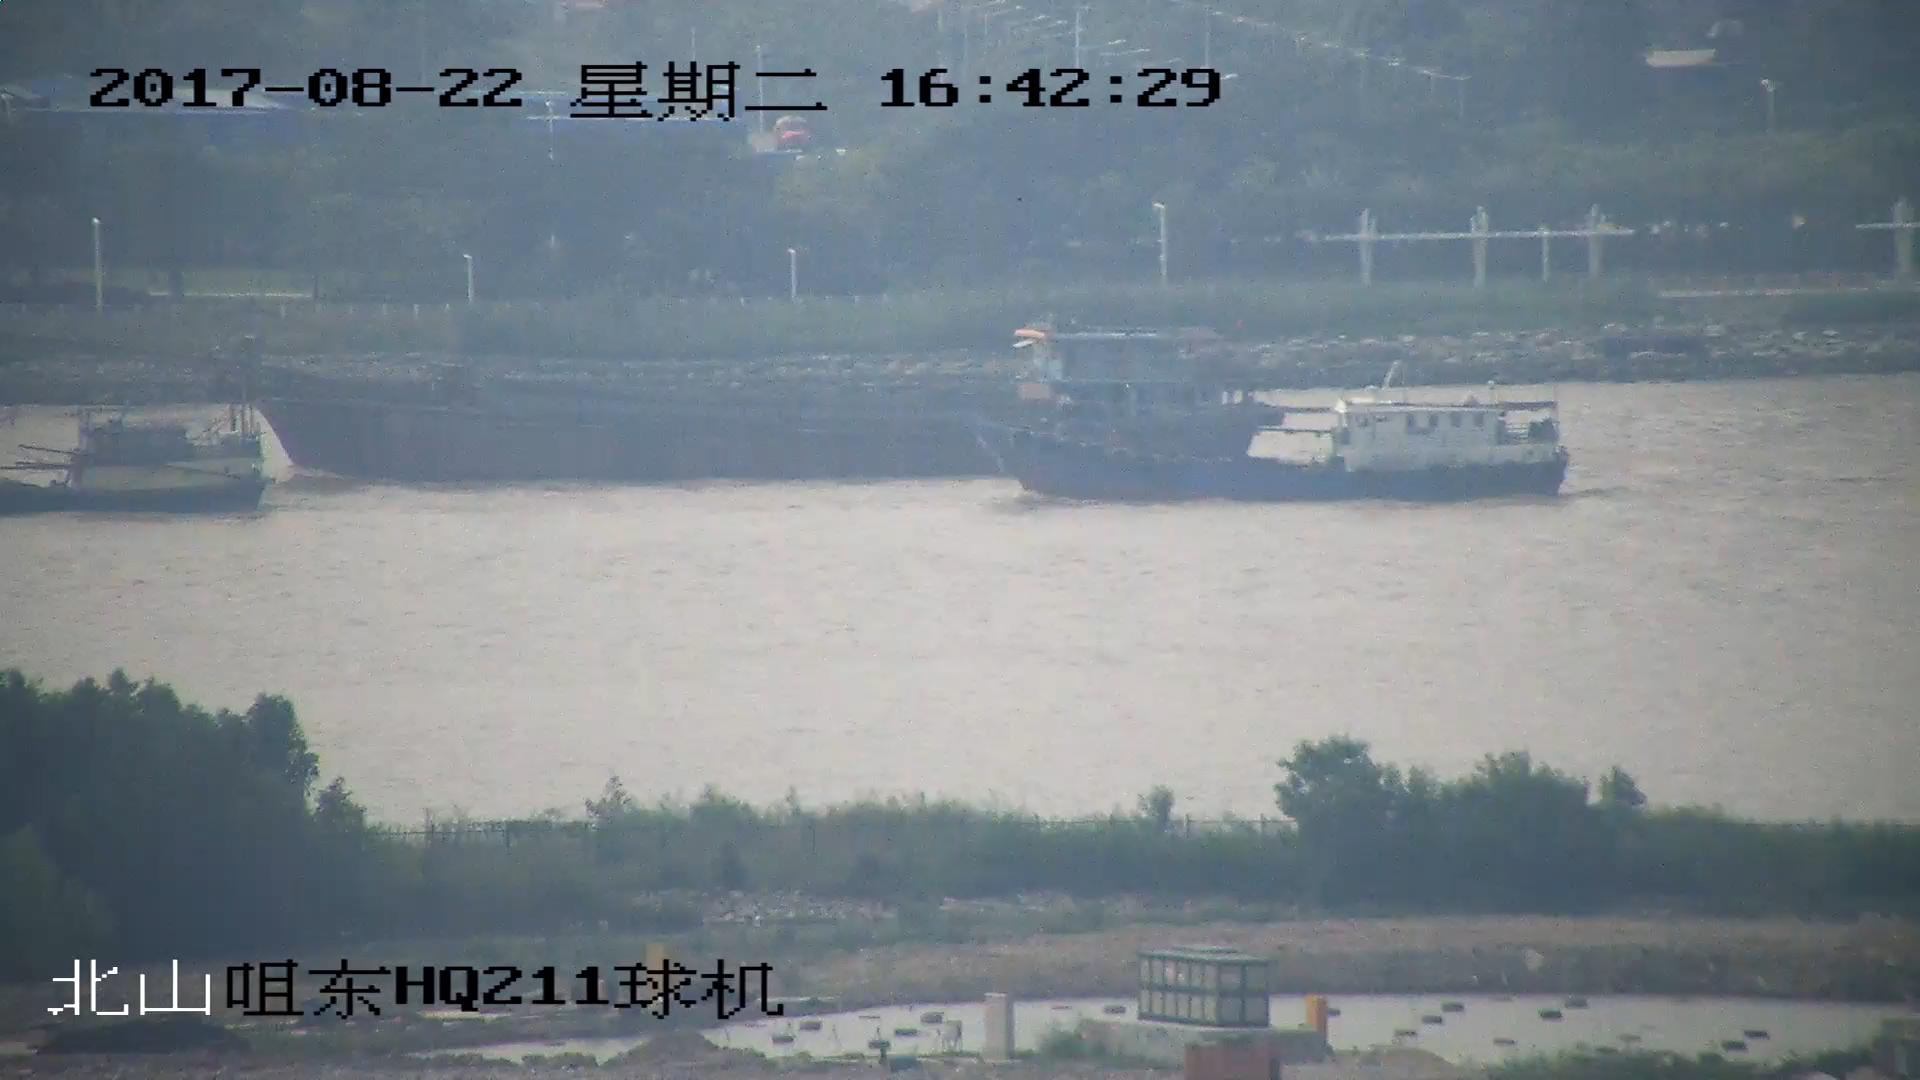bulk cargo carrier: (1, 322, 1276, 480)
fishing boat: (970, 380, 1570, 505), (1, 415, 272, 522)
